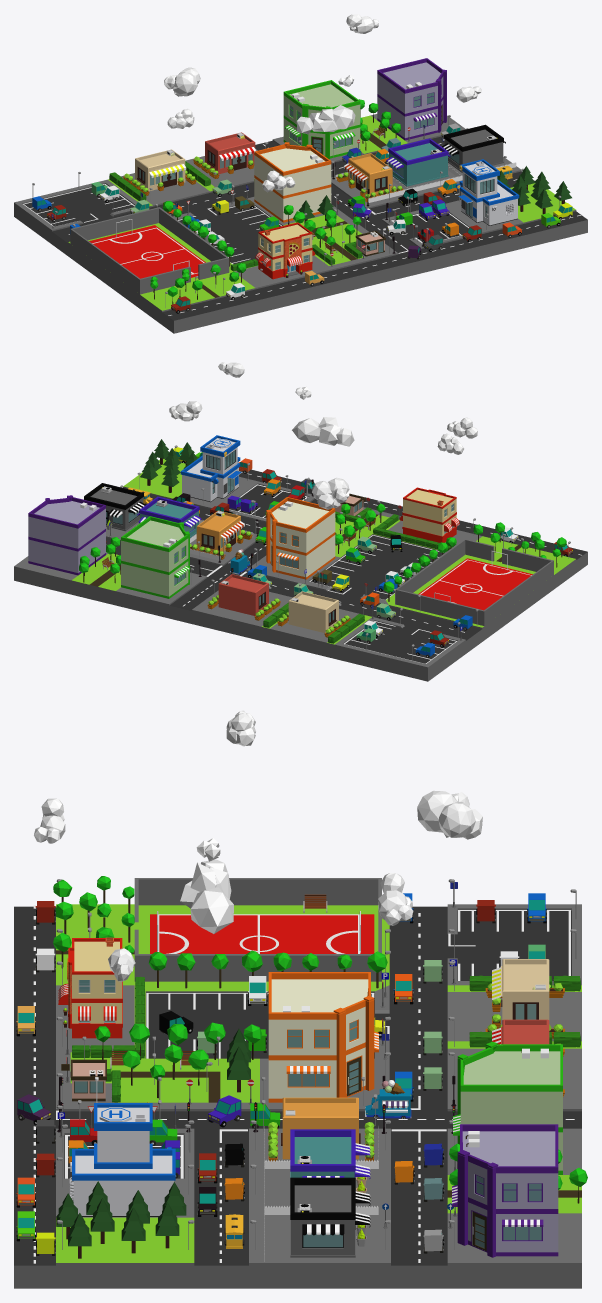
File: city.glb
The picture shows the model from 3 angles, top to bottom: view 1: azimuth 30°, elevation 25°; view 2: azimuth 150°, elevation 25°; view 3: azimuth 270°, elevation 25°; orthographic projection. The views are drawn at different scales.
Visible parts, largest first — view 1: object 31, macchina.020, Cube_materiale base_0, tenda.001, tenda.003, Sphere, tenda.002, police station, pizzeria, base casa, base casa.001, macchina.020_materiale base_0.001 (+12 smaller); view 2: object 31, tenda.003, Cube_materiale base_0, tenda.002, tenda.001, macchina.020, Sphere, police station, pizzeria, casa.001, Icosphere.001, casa.002 (+12 smaller); view 3: object 31, tenda.003, tenda.001, macchina.020, Cube_materiale base_0, Sphere, tenda.002, police station, base casa.001, Cube.018, macchina.020_materiale base_0.001, pizzeria (+16 smaller).
Part boxes in pixels (box(x1,y1,x2,y2)): object 31: box(14, 114, 587, 333); macchina.020: box(32, 123, 572, 312); Cube_materiale base_0: box(70, 207, 229, 294); tenda.001: box(254, 142, 331, 222); tenda.003: box(377, 58, 446, 140); Sphere: box(164, 14, 481, 192); tenda.002: box(283, 80, 360, 159); police station: box(455, 159, 519, 225); pizzeria: box(255, 222, 315, 279); base casa: box(386, 138, 450, 186); base casa.001: box(442, 124, 505, 172); macchina.020_materiale base_0.001: box(70, 183, 572, 313); object 31: box(14, 457, 587, 681); tenda.003: box(28, 495, 105, 575); Cube_materiale base_0: box(395, 538, 553, 625); tenda.002: box(121, 516, 190, 598); tenda.001: box(266, 497, 335, 579); macchina.020: box(172, 459, 571, 657); Sphere: box(169, 362, 477, 509); police station: box(180, 435, 241, 502); pizzeria: box(399, 487, 459, 542); casa.001: box(207, 574, 280, 620); Icosphere.001: box(277, 591, 350, 637); casa.002: box(190, 510, 252, 559); object 31: box(14, 904, 581, 1288); tenda.003: box(452, 1124, 558, 1257); tenda.001: box(268, 972, 378, 1102); macchina.020: box(17, 893, 546, 1253); Cube_materiale base_0: box(134, 878, 381, 981); Sphere: box(34, 710, 482, 981); tenda.002: box(453, 1041, 562, 1174); police station: box(69, 1102, 175, 1216); base casa.001: box(290, 1177, 370, 1257); Cube.018: box(56, 1029, 250, 1258); macchina.020_materiale base_0.001: box(16, 893, 495, 1255); pizzeria: box(58, 938, 122, 1038).
Bounding box in the file's own units: 103 × 40.79 × 69.8.
Materials: 7 (4 with a texture image).
